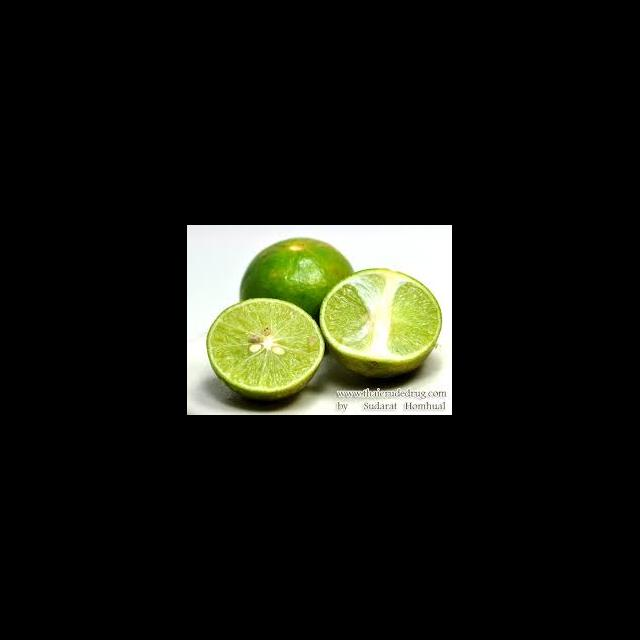lime: (318, 267, 444, 386), (204, 294, 328, 404), (238, 232, 360, 337)
